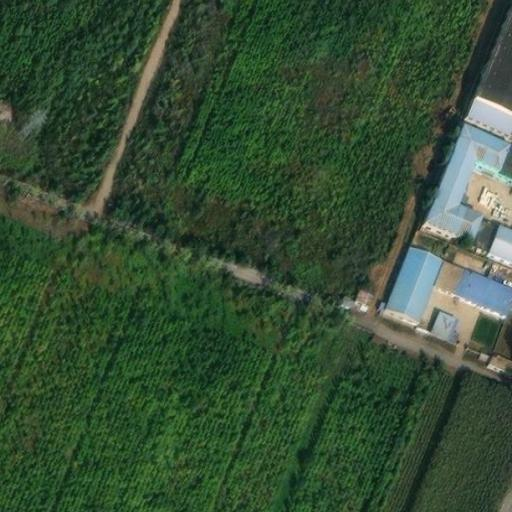building: (426, 115, 512, 236), (466, 0, 512, 130), (431, 250, 512, 310), (385, 238, 443, 316), (472, 210, 512, 253), (425, 303, 461, 338), (488, 316, 512, 368), (485, 253, 512, 282), (348, 283, 376, 309), (501, 134, 512, 168)
